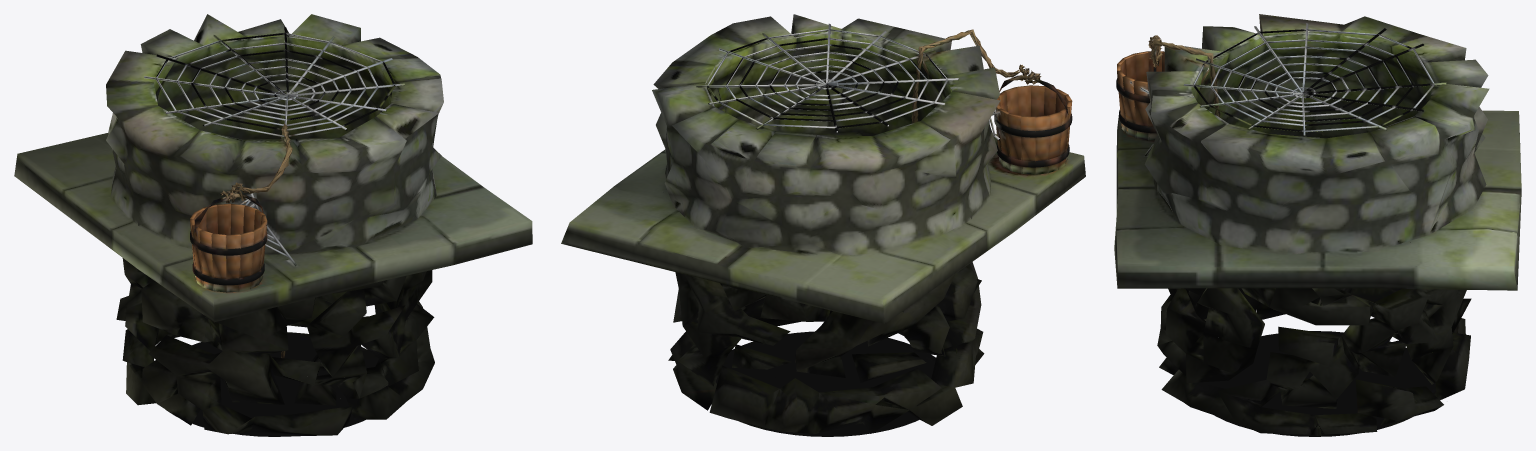
Rendered from well_cobweb.glb.
3 renders of one model, left to right at view 1: azimuth 30°, elevation 25°; view 2: azimuth 150°, elevation 25°; view 3: azimuth 270°, elevation 25°, orthographic.
Parts seen in each view (by area): view 1: well_cobweb_lod0; view 2: well_cobweb_lod0; view 3: well_cobweb_lod0.
Part boxes in pixels (x1,y1,x2,y2): well_cobweb_lod0: (14, 14, 532, 436); well_cobweb_lod0: (561, 14, 1085, 436); well_cobweb_lod0: (1114, 14, 1521, 436).
Size of the model in its own units: 1.87 by 1.7 by 2.01.
1 material, 1 textured.
